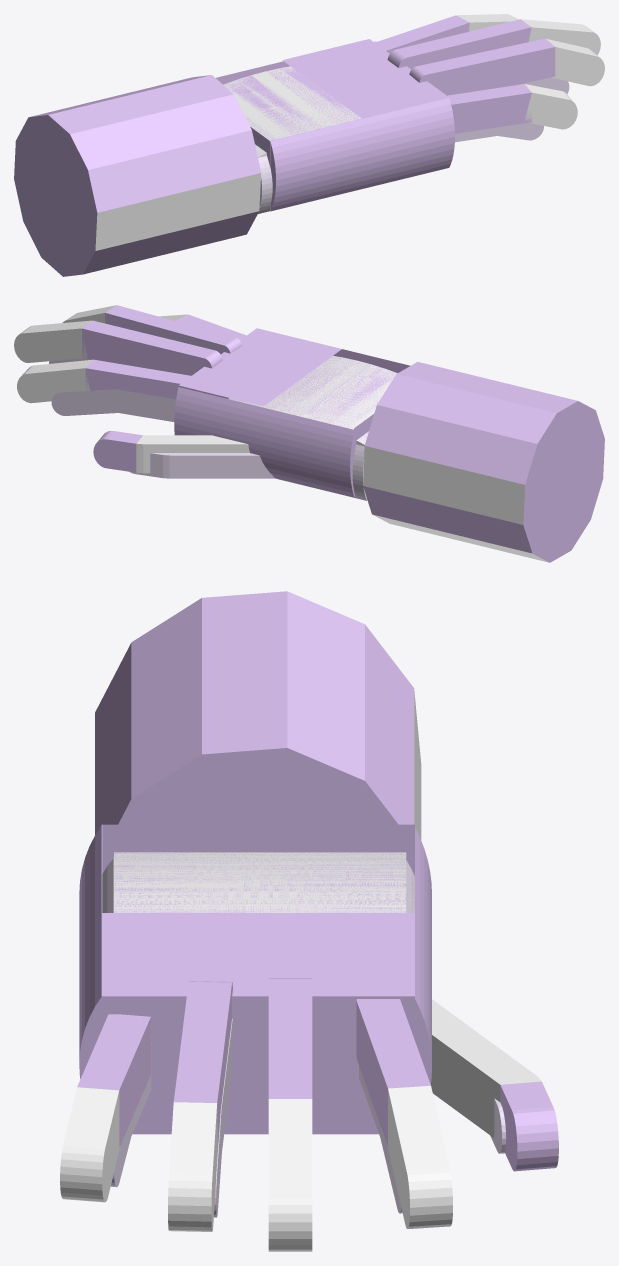
File: hand.dae
The picture shows the model from 3 angles, top to bottom: view 1: azimuth 30°, elevation 25°; view 2: azimuth 150°, elevation 25°; view 3: azimuth 270°, elevation 25°; orthographic projection. The views are drawn at different scales.
Visible parts, largest first — view 1: Wrist, Outer_Hand_002, Wrist_001, Outer_Hand, Wrist_002, Inner_Hand_001, Ring_Finger_002, Middle_Finger_001, Pinky_001, Finger_tip_001, Finger_Tip_003, Finger_Tip_004 (+6 smaller); view 2: Wrist, Outer_Hand_001, Wrist_001, Outer_Hand, Wrist_005, Inner_Hand_001, Middle_Finger_001, Ring_Finger_002, Index_Finger_001, Finger_Tip_004, Finger_Tip_005, Thumb_Joint (+10 smaller); view 3: Outer_Hand, Wrist_001, Wrist, Inner_Hand_001, Finger_Tip_005, Finger_Tip_004, Thumb_Joint_001, Finger_tip_001, Ring_Finger_002, Finger_Tip_003, Index_Finger_001, Middle_Finger_001 (+5 smaller).
Boxes of the visible parts, <box> form: Wrist: <box>14,115,260,276</box>; Outer_Hand_002: <box>270,97,454,211</box>; Wrist_001: <box>29,75,251,169</box>; Outer_Hand: <box>216,39,448,211</box>; Wrist_002: <box>95,173,261,250</box>; Inner_Hand_001: <box>223,66,361,156</box>; Ring_Finger_002: <box>409,38,555,95</box>; Middle_Finger_001: <box>387,19,531,69</box>; Pinky_001: <box>447,84,531,133</box>; Finger_tip_001: <box>546,39,604,86</box>; Finger_Tip_003: <box>525,84,577,129</box>; Finger_Tip_004: <box>521,19,600,55</box>; Wrist: <box>363,401,604,562</box>; Outer_Hand_001: <box>174,387,354,497</box>; Wrist_001: <box>377,362,577,443</box>; Outer_Hand: <box>178,328,410,496</box>; Wrist_005: <box>363,446,524,524</box>; Inner_Hand_001: <box>228,355,397,444</box>; Middle_Finger_001: <box>82,320,222,375</box>; Ring_Finger_002: <box>105,305,242,354</box>; Index_Finger_001: <box>85,359,190,399</box>; Finger_Tip_004: <box>14,320,91,362</box>; Finger_Tip_005: <box>17,359,92,403</box>; Thumb_Joint: <box>169,453,249,478</box>; Outer_Hand: <box>79,824,431,1134</box>; Wrist_001: <box>131,591,364,798</box>; Wrist: <box>95,624,414,834</box>; Inner_Hand_001: <box>114,852,406,912</box>; Finger_Tip_005: <box>387,1085,452,1228</box>; Finger_Tip_004: <box>268,1099,312,1251</box>; Thumb_Joint_001: <box>431,1013,536,1137</box>; Finger_tip_001: <box>168,1102,217,1231</box>; Ring_Finger_002: <box>173,981,232,1147</box>; Finger_Tip_003: <box>60,1087,120,1202</box>; Index_Finger_001: <box>356,999,430,1145</box>; Middle_Finger_001: <box>268,978,312,1098</box>.
Size of the model in its own units: 19.46 by 7.83 by 5.13.
